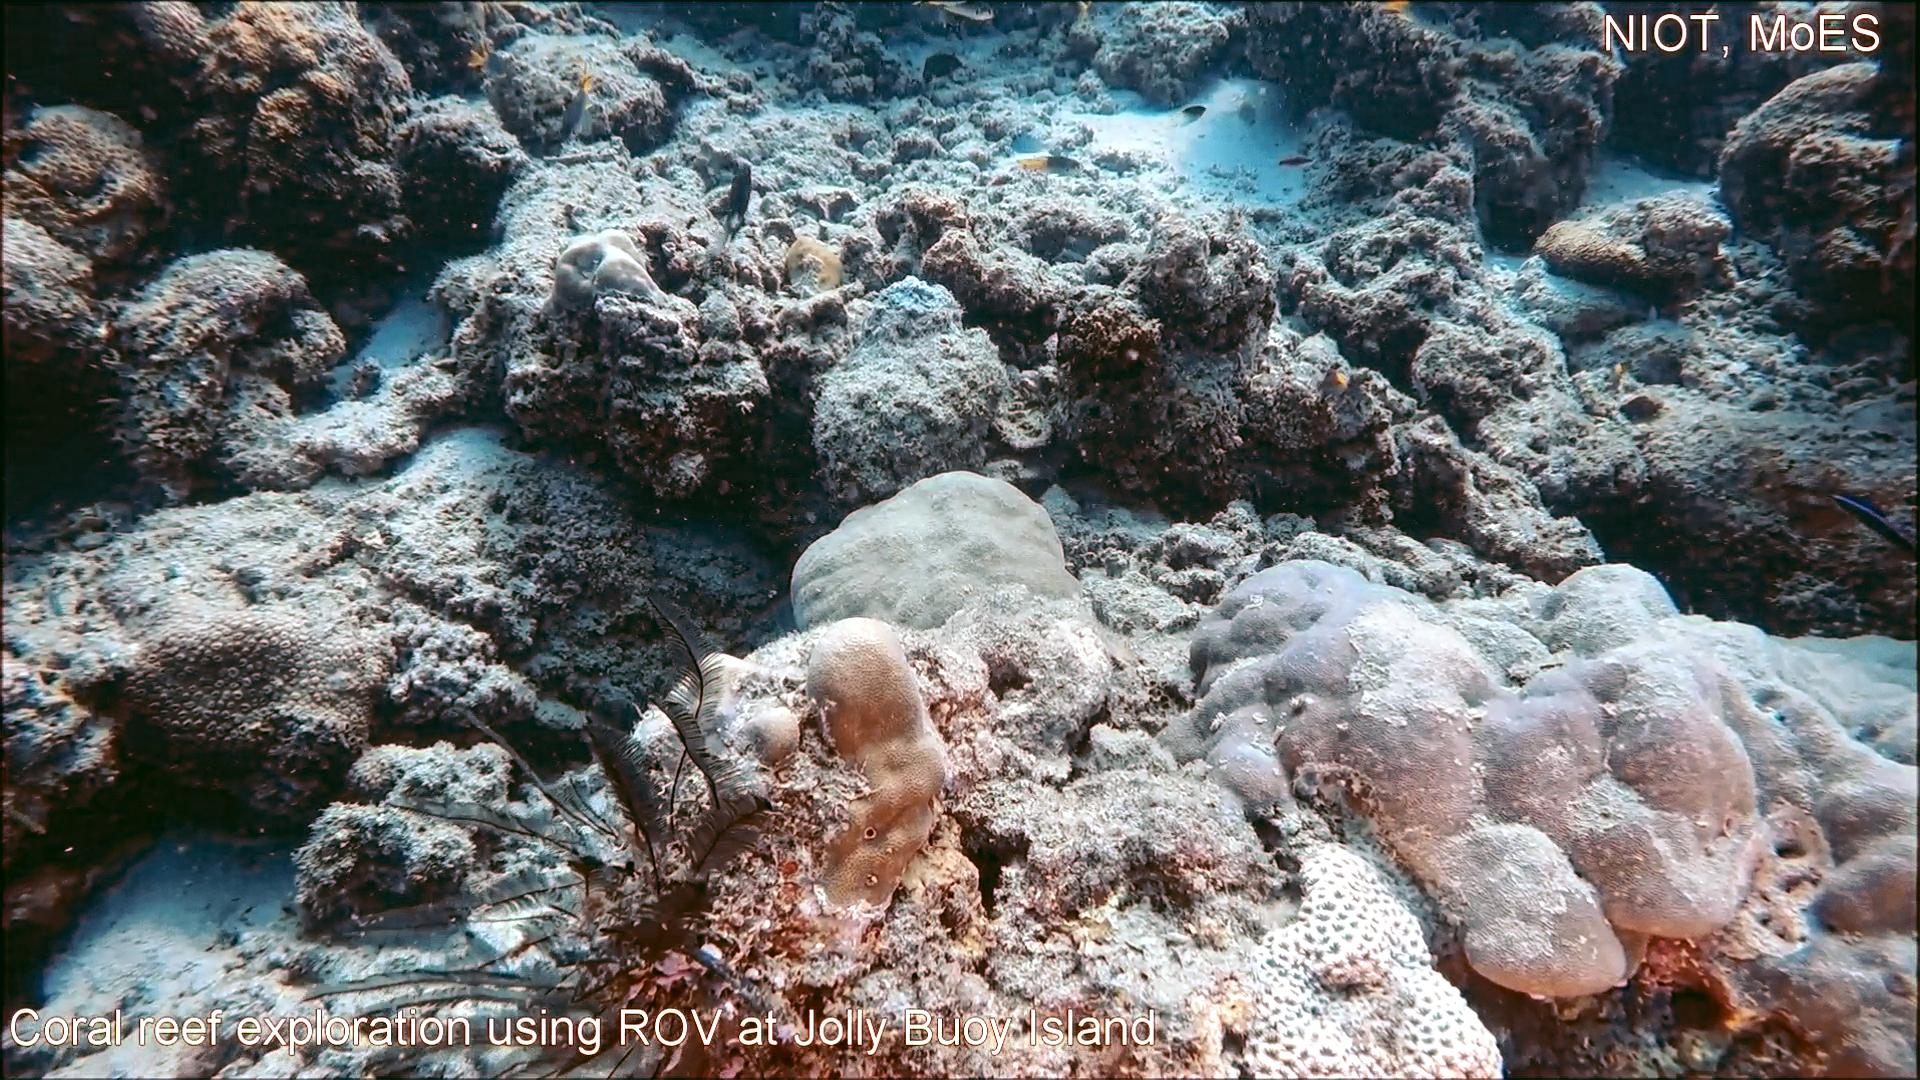Feather star-Crinoid star: (290, 580, 793, 1080)
Goniastrea-Goniastrea pectinata: (1238, 831, 1514, 1080)
Porites-Porites pukoensis: (1606, 554, 1920, 1080)
Turbinaria-Turbinaria stellulata: (105, 607, 388, 810)
